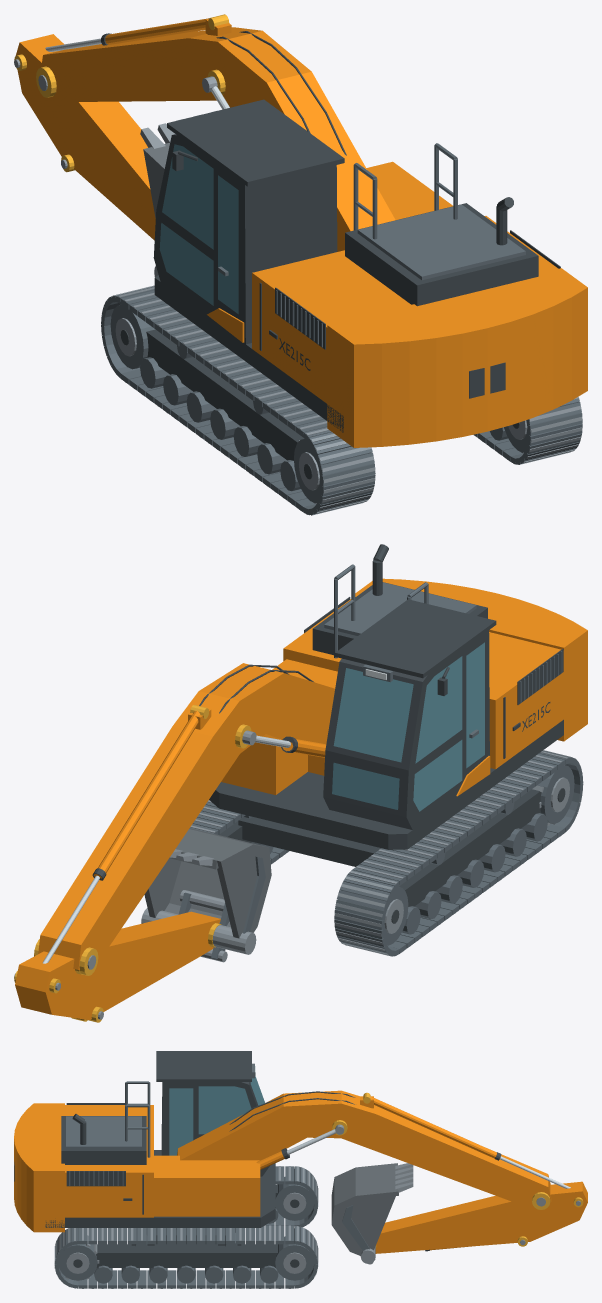
3 renders of one model, top to bottom at view 1: azimuth 30°, elevation 25°; view 2: azimuth 150°, elevation 25°; view 3: azimuth 270°, elevation 25°, orthographic. The views are drawn at different scales.
Visible parts, largest first — view 1: XE215C_Counterweight, XE215C_Cabin, XE215C_EngineHouse, XE215C_Boom, XE215C_Track_L, XE215C_TrackWheels_L, XE215C_Stick, XE215C_Track_R, XE215C_UpperCarriage, XE215C_ServiceDetails, XE215C_Cylinder_Stick, XE215C_Bucket (+2 smaller); view 2: XE215C_Cabin, XE215C_Boom, XE215C_EngineHouse, XE215C_Track_L, XE215C_Stick, XE215C_TrackWheels_L, XE215C_Bucket, XE215C_UpperCarriage, XE215C_Counterweight, XE215C_Undercarriage, XE215C_Cylinder_Stick, XE215C_ServiceDetails (+2 smaller); view 3: XE215C_EngineHouse, XE215C_Boom, XE215C_TrackWheels_R, XE215C_Stick, XE215C_Cabin, XE215C_Track_R, XE215C_Counterweight, XE215C_Bucket, XE215C_UpperCarriage, XE215C_TrackWheels_L, XE215C_Track_L, XE215C_Cylinder_Stick (+3 smaller).
Part boxes in pixels (x1,y1,x2,y2): XE215C_Counterweight: (327, 268, 587, 447); XE215C_Cabin: (153, 99, 344, 345); XE215C_EngineHouse: (252, 161, 560, 403); XE215C_Boom: (36, 27, 395, 251); XE215C_Track_L: (101, 285, 375, 515); XE215C_TrackWheels_L: (110, 304, 320, 503); XE215C_Stick: (14, 34, 155, 240); XE215C_Track_R: (473, 396, 582, 464); XE215C_UpperCarriage: (154, 275, 343, 432); XE215C_ServiceDetails: (172, 143, 513, 245); XE215C_Cylinder_Stick: (101, 14, 231, 45); XE215C_Bucket: (140, 110, 217, 277); XE215C_Cabin: (323, 599, 496, 830); XE215C_Boom: (34, 663, 334, 975); XE215C_EngineHouse: (221, 582, 563, 795); XE215C_Track_L: (334, 750, 583, 956); XE215C_Stick: (14, 911, 221, 1022); XE215C_TrackWheels_L: (384, 765, 574, 945); XE215C_Bucket: (141, 828, 271, 954); XE215C_UpperCarriage: (209, 719, 563, 849); XE215C_Counterweight: (355, 578, 587, 741); XE215C_Undercarriage: (238, 817, 381, 866); XE215C_Cylinder_Stick: (92, 705, 211, 880); XE215C_ServiceDetails: (334, 544, 449, 695); XE215C_EngineHouse: (61, 1103, 260, 1217); XE215C_Boom: (177, 1090, 551, 1209); XE215C_TrackWheels_R: (58, 1233, 314, 1283); XE215C_Stick: (375, 1181, 587, 1253); XE215C_Cabin: (156, 1051, 269, 1176); XE215C_Track_R: (54, 1225, 318, 1288); XE215C_Counterweight: (14, 1103, 64, 1232); XE215C_Bucket: (331, 1163, 413, 1263); XE215C_UpperCarriage: (45, 1150, 275, 1227); XE215C_TrackWheels_L: (268, 1177, 314, 1223); XE215C_Track_L: (265, 1166, 318, 1227); XE215C_Cylinder_Stick: (360, 1092, 501, 1160).
Size of the model in its own units: 2.99 by 3.09 by 9.69.
